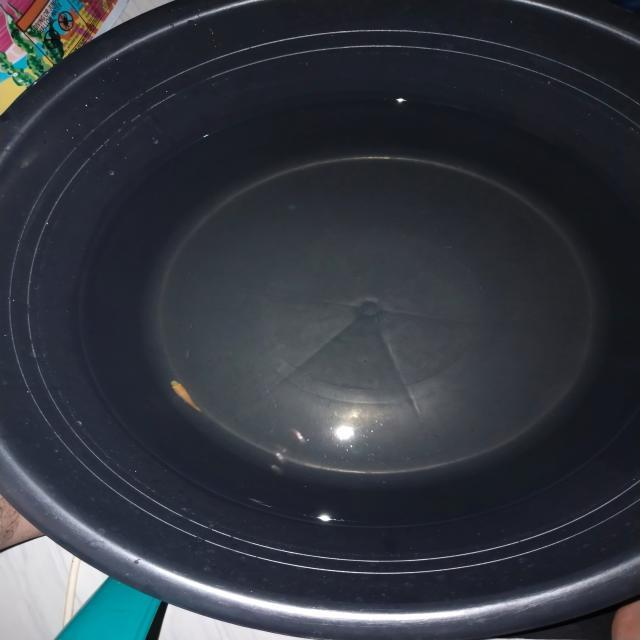nila: (167, 378, 210, 417)
